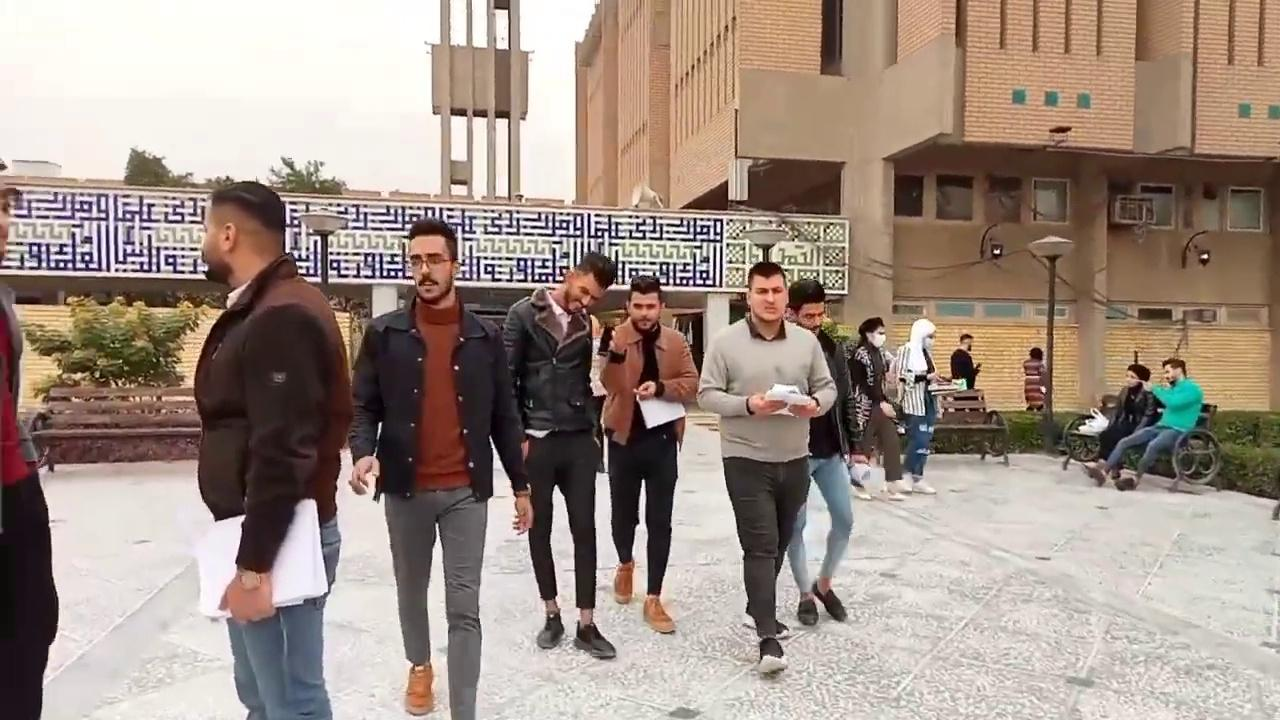person: (347, 217, 533, 718), (192, 180, 353, 719), (695, 261, 839, 674), (501, 251, 618, 659), (597, 275, 699, 634), (0, 163, 59, 719), (781, 278, 866, 625), (1087, 357, 1204, 490), (846, 316, 907, 502), (887, 317, 940, 494), (949, 333, 982, 389), (1022, 346, 1047, 411)
tree: (20, 289, 220, 398), (122, 145, 347, 195), (325, 292, 370, 370), (267, 155, 346, 194), (122, 145, 193, 187), (819, 315, 850, 343), (201, 174, 235, 190)
